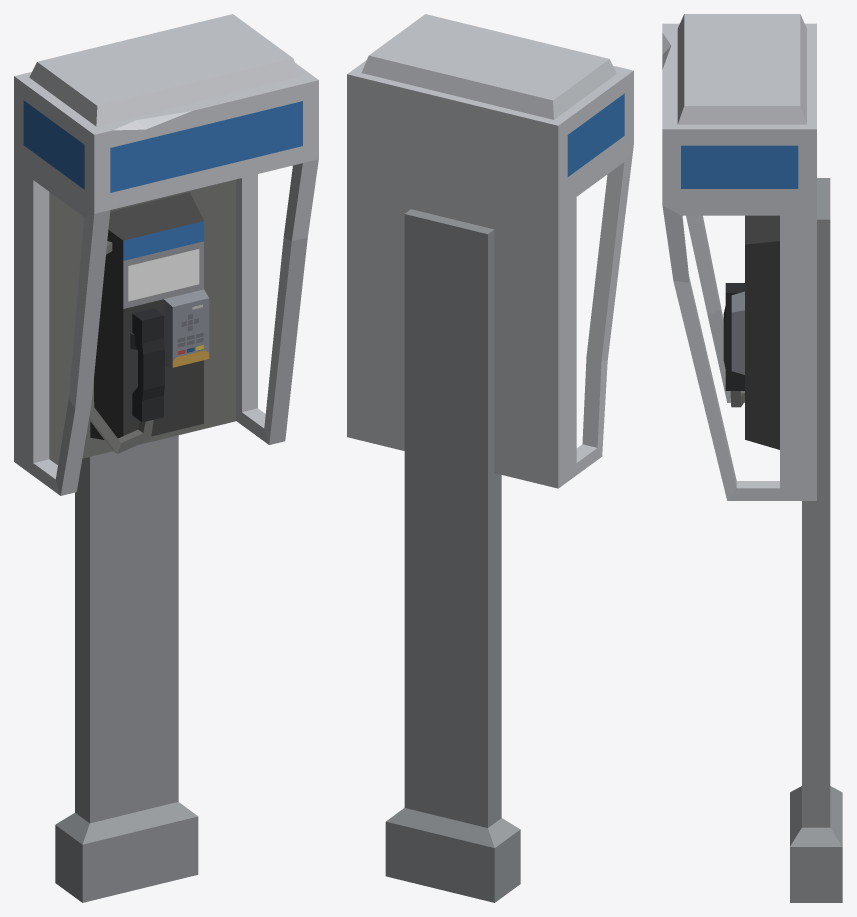
Rendered from SM_Prop_Phone_01.fbx.
3 renders of one model, left to right at view 1: azimuth 30°, elevation 25°; view 2: azimuth 150°, elevation 25°; view 3: azimuth 270°, elevation 25°, orthographic. The views are drawn at different scales.
Parts seen in each view (by area): view 1: SM_Prop_Phone_01; view 2: SM_Prop_Phone_01; view 3: SM_Prop_Phone_01.
Part boxes in pixels (bbox=[...]): SM_Prop_Phone_01: bbox=[14, 14, 318, 902]; SM_Prop_Phone_01: bbox=[347, 14, 633, 902]; SM_Prop_Phone_01: bbox=[662, 14, 842, 902].
Bounding box in the file's own units: 55.39 × 200 × 39.93.
